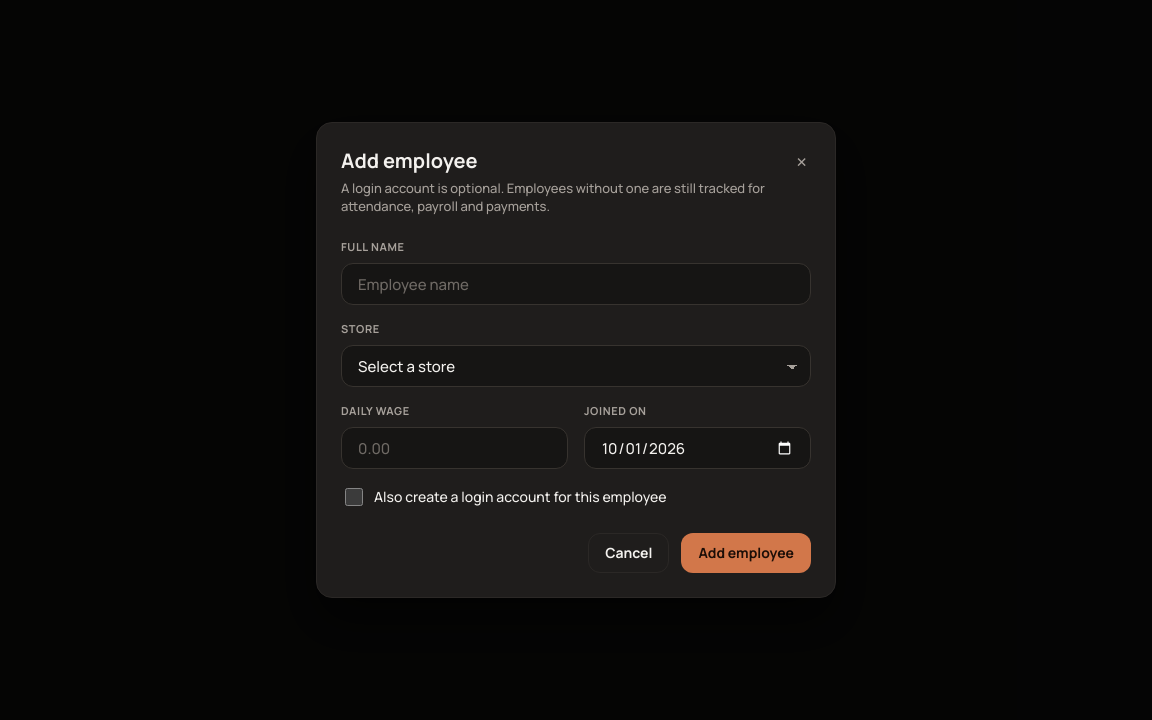
it: EmployeeFormModal › only asks for credentials when an account is explicitly requested
Expected: the field labelled "email" is not shown
Step 1. Click the checkbox labelled "Also create a login account for this employee" → [354, 497], box left=345, top=488, right=363, bottom=506
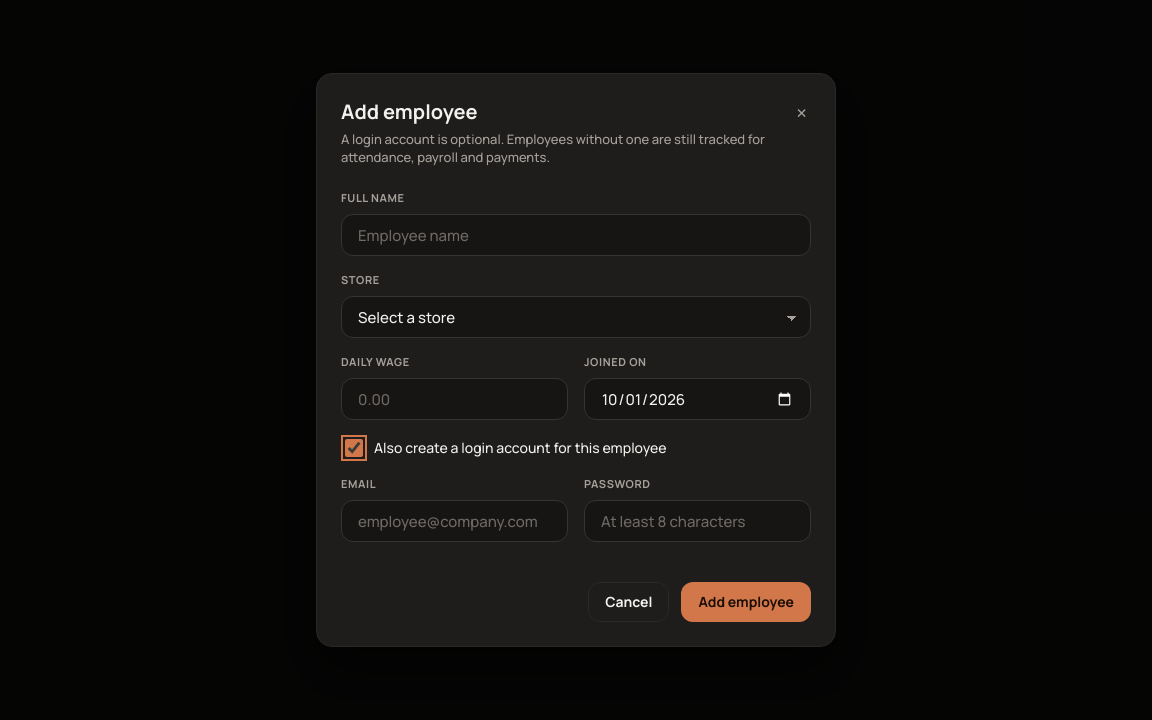
Expected: the field labelled "Email" is shown, left=341, top=500, right=568, bottom=542
Expected: the password field labelled "Password" is shown, left=584, top=500, right=811, bottom=542
